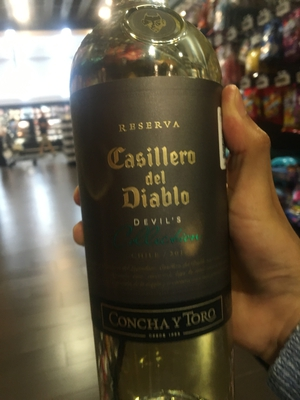casillero del diablo devils collection verde: (49, 10, 240, 400)
